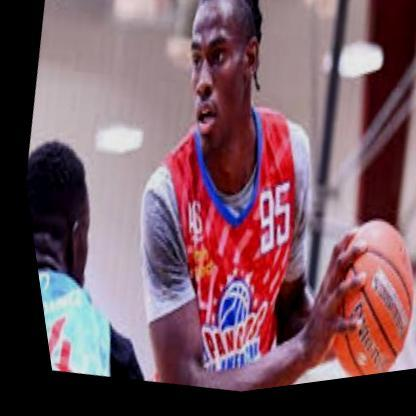basketball: (291, 216, 416, 388)
